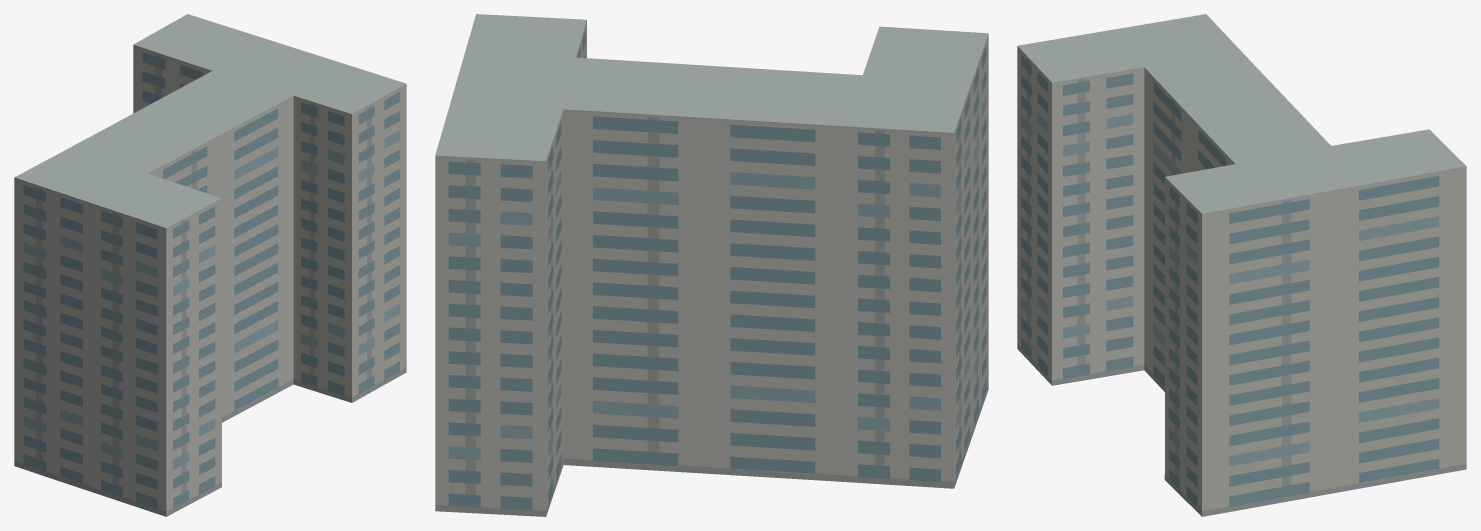
The model's file is residential-cdc85837-8f39-4587-91f3-1950c75c15a0.glb.
3 renders of one model, left to right at view 1: azimuth 30°, elevation 25°; view 2: azimuth 150°, elevation 25°; view 3: azimuth 270°, elevation 25°, orthographic. The views are drawn at different scales.
Visible parts, largest first — view 1: residential-cdc85837-8f39-4587-91f3-1950c75c15a0.tmp; view 2: residential-cdc85837-8f39-4587-91f3-1950c75c15a0.tmp; view 3: residential-cdc85837-8f39-4587-91f3-1950c75c15a0.tmp.
Part boxes in pixels (x1=…): residential-cdc85837-8f39-4587-91f3-1950c75c15a0.tmp: x1=14, y1=14, x2=406, y2=516; residential-cdc85837-8f39-4587-91f3-1950c75c15a0.tmp: x1=435, y1=14, x2=988, y2=516; residential-cdc85837-8f39-4587-91f3-1950c75c15a0.tmp: x1=1017, y1=14, x2=1466, y2=516.
Size of the model in its own units: 56.55 by 40 by 53.74.
